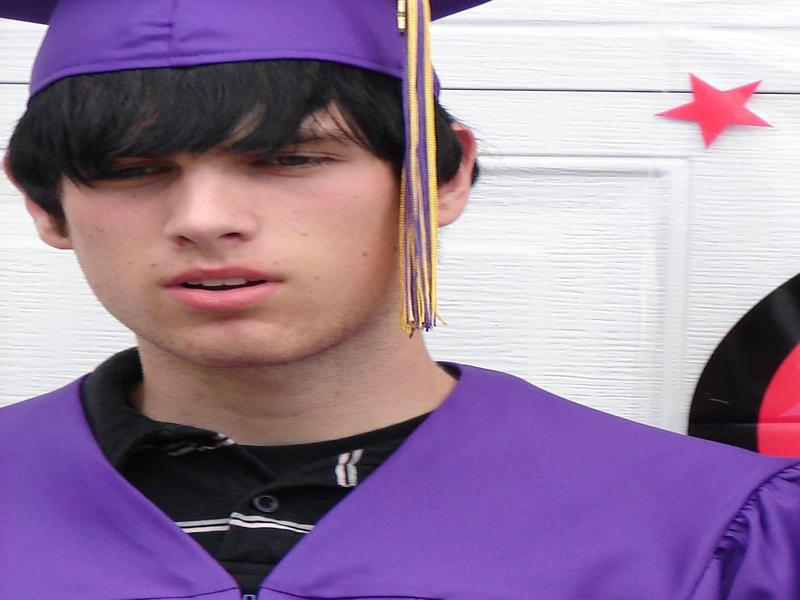person: (1, 1, 797, 598)
